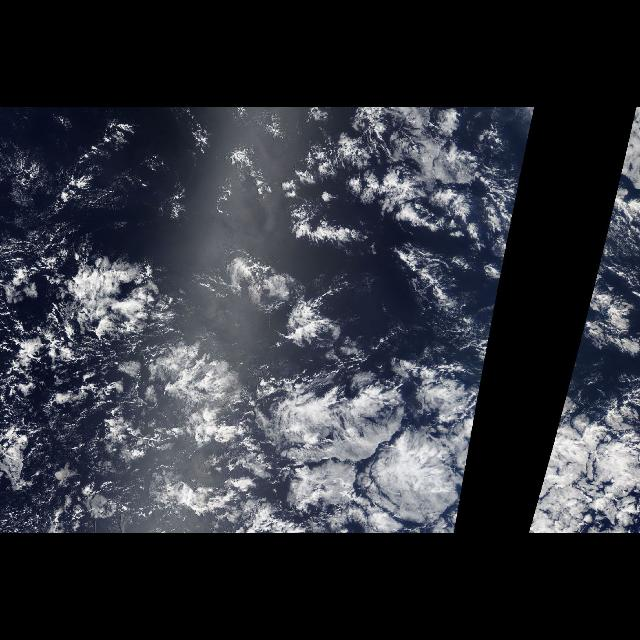Flower: (11, 132, 483, 364)
